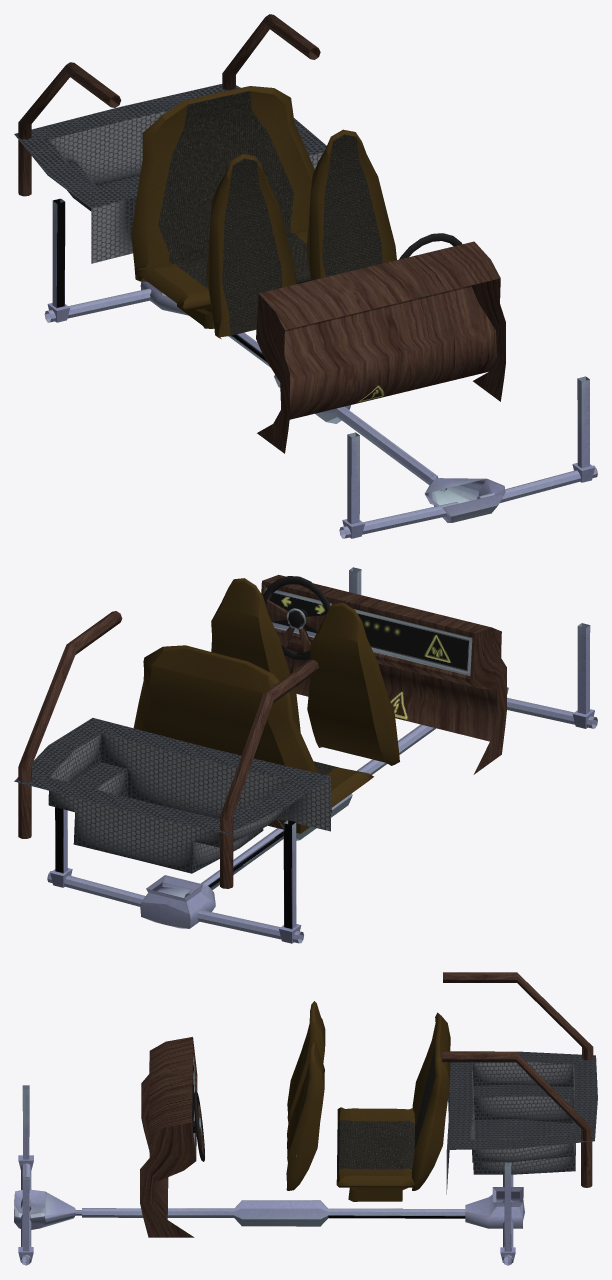
The model's file is Innards.obj.
The picture shows the model from 3 angles, top to bottom: view 1: azimuth 30°, elevation 25°; view 2: azimuth 150°, elevation 25°; view 3: azimuth 270°, elevation 25°; orthographic projection. The views are drawn at different scales.
Parts seen in each view (by area): view 1: Dashboard MainBody Geometry Jeep, MainBody Geometry Jeep Rear_Seat, MainBody Geometry Jeep Trunk, MainBody Geometry Jeep Passenger_Seat polySurface4, MainBody Geometry Jeep polySurface9 Passenger_Seat, MainBody Geometry Jeep Bars, MainBody Geometry Jeep Front_Gears, MainBody Geometry Jeep Gears_Shaft_FtB, Geometry Jeep Rear_Right_Shock Wheel_R_R, Geometry Jeep Front_Left_Shock Wheel_F_L, Geometry Jeep Front_Right_Shock Wheel_F_R, Geometry Jeep Front_Right_Axel (+2 smaller); view 2: MainBody Geometry Jeep Trunk, Dashboard MainBody Geometry Jeep, MainBody Geometry Jeep Rear_Seat, MainBody Geometry Jeep Passenger_Seat polySurface4, MainBody Geometry Jeep Bars, MainBody Geometry Jeep polySurface9 Passenger_Seat, MainBody Geometry Jeep Rear_Gears, MainBody Geometry Jeep Steering_Wheel, MainBody Geometry Jeep Gears_Shaft_FtB, Geometry Jeep Rear_Right_Shock Wheel_R_R, Geometry Jeep Front_Right_Shock Wheel_F_R, Geometry Jeep Rear_Right_Axel (+3 smaller); view 3: MainBody Geometry Jeep Trunk, MainBody Geometry Jeep Rear_Seat, Dashboard MainBody Geometry Jeep, MainBody Geometry Jeep Gears_Shaft_FtB, MainBody Geometry Jeep Bars, MainBody Geometry Jeep polySurface9 Passenger_Seat, MainBody Geometry Jeep Rear_Gears, MainBody Geometry Jeep Front_Gears, MainBody Geometry Jeep Passenger_Seat polySurface4, Geometry Jeep Rear_Left_Shock Wheel_R_L, Geometry Jeep Front_Left_Shock Wheel_F_L, Geometry Jeep Front_Right_Shock Wheel_F_R (+1 smaller).
Part boxes in pixels (x1,y1,x2,y2): Dashboard MainBody Geometry Jeep: (256,241,505,453); MainBody Geometry Jeep Rear_Seat: (131,86,314,328); MainBody Geometry Jeep Trunk: (14,84,326,263); MainBody Geometry Jeep Passenger_Seat polySurface4: (206,154,296,338); MainBody Geometry Jeep polySurface9 Passenger_Seat: (306,129,396,280); MainBody Geometry Jeep Bars: (18,14,320,196); MainBody Geometry Jeep Front_Gears: (424,478,505,522); MainBody Geometry Jeep Gears_Shaft_FtB: (228,332,447,491); Geometry Jeep Rear_Right_Shock Wheel_R_R: (47,198,69,322); Geometry Jeep Front_Left_Shock Wheel_F_L: (572,376,594,482); Geometry Jeep Front_Right_Shock Wheel_F_R: (342,432,364,538); Geometry Jeep Front_Right_Axel: (339,502,458,538); MainBody Geometry Jeep Trunk: (14,718,330,873); Dashboard MainBody Geometry Jeep: (261,574,506,774); MainBody Geometry Jeep Rear_Seat: (133,645,373,833); MainBody Geometry Jeep Passenger_Seat polySurface4: (307,602,399,765); MainBody Geometry Jeep Bars: (18,611,319,888); MainBody Geometry Jeep polySurface9 Passenger_Seat: (211,578,300,731); MainBody Geometry Jeep Rear_Gears: (140,875,215,928); MainBody Geometry Jeep Steering_Wheel: (263,576,330,660); MainBody Geometry Jeep Gears_Shaft_FtB: (184,724,435,897); Geometry Jeep Rear_Right_Shock Wheel_R_R: (279,820,301,943); Geometry Jeep Front_Right_Shock Wheel_F_R: (572,623,594,728); Geometry Jeep Rear_Right_Axel: (197,909,303,943); MainBody Geometry Jeep Trunk: (446,1051,597,1194); MainBody Geometry Jeep Rear_Seat: (336,1012,450,1201); Dashboard MainBody Geometry Jeep: (140,1037,197,1237); MainBody Geometry Jeep Gears_Shaft_FtB: (75,1200,465,1226); MainBody Geometry Jeep Bars: (442,972,593,1187); MainBody Geometry Jeep polySurface9 Passenger_Seat: (286,1041,324,1190); MainBody Geometry Jeep Rear_Gears: (465,1187,524,1228); MainBody Geometry Jeep Front_Gears: (14,1189,75,1229); MainBody Geometry Jeep Passenger_Seat polySurface4: (287,1001,325,1138); Geometry Jeep Rear_Left_Shock Wheel_R_L: (500,1162,515,1263); Geometry Jeep Front_Left_Shock Wheel_F_L: (18,1177,33,1262); Geometry Jeep Front_Right_Shock Wheel_F_R: (18,1085,33,1170).
Bounding box in the file's own units: 158 × 157 × 387.
2 materials, 2 textured.
